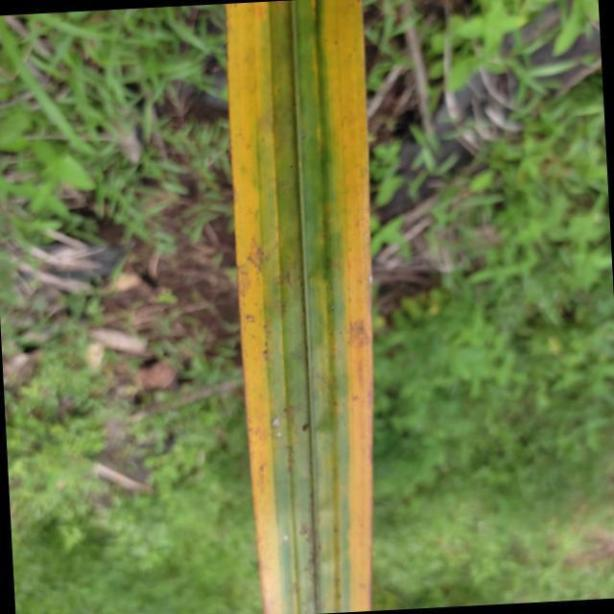Megnesium: (227, 3, 375, 614)
